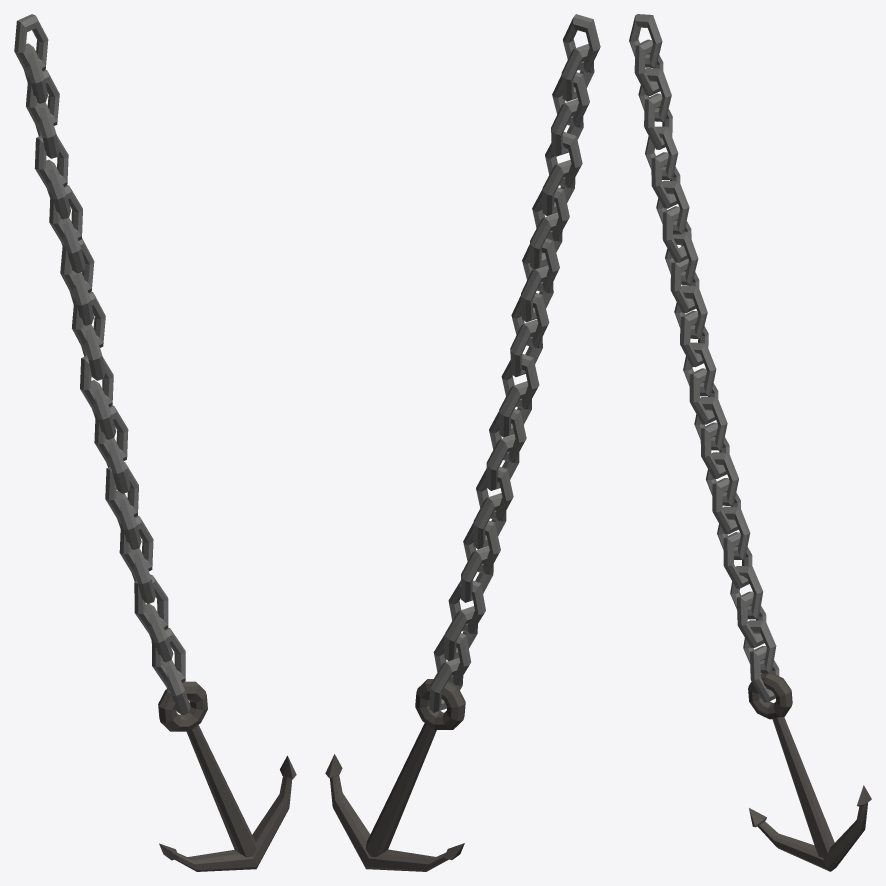
The model's file is Anchor and chain.fbx.
3 views of the same model, side by side, from view 1: azimuth 30°, elevation 25°; view 2: azimuth 150°, elevation 25°; view 3: azimuth 330°, elevation 25° (orthographic). The views are drawn at different scales.
Parts seen in each view (by area): view 1: Anchor_chain, Anchor; view 2: Anchor_chain, Anchor; view 3: Anchor_chain, Anchor.
Boxes of the visible parts, left/top/right/bottom form: Anchor_chain: left=14, top=14, right=190, bottom=715; Anchor: left=158, top=681, right=296, bottom=871; Anchor_chain: left=429, top=14, right=600, bottom=712; Anchor: left=325, top=679, right=465, bottom=871; Anchor_chain: left=629, top=14, right=779, bottom=702; Anchor: left=748, top=672, right=871, bottom=871.
Size of the model in its own units: 165 by 520 by 25.9.
